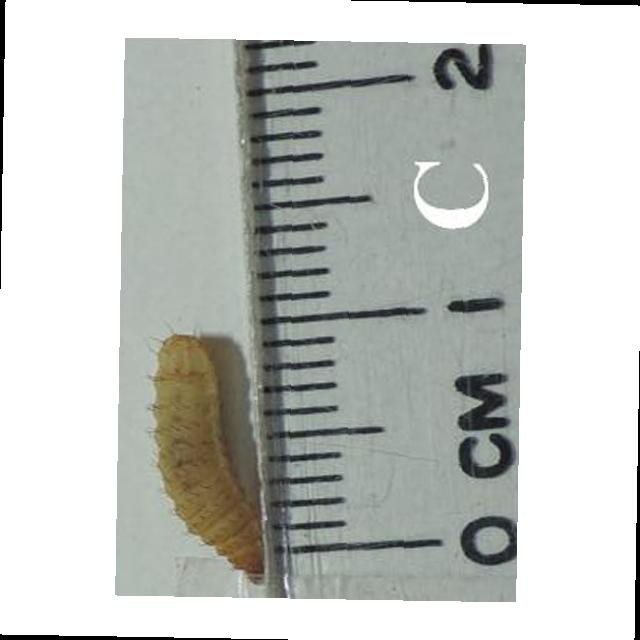Maggot: (148, 330, 271, 579)
